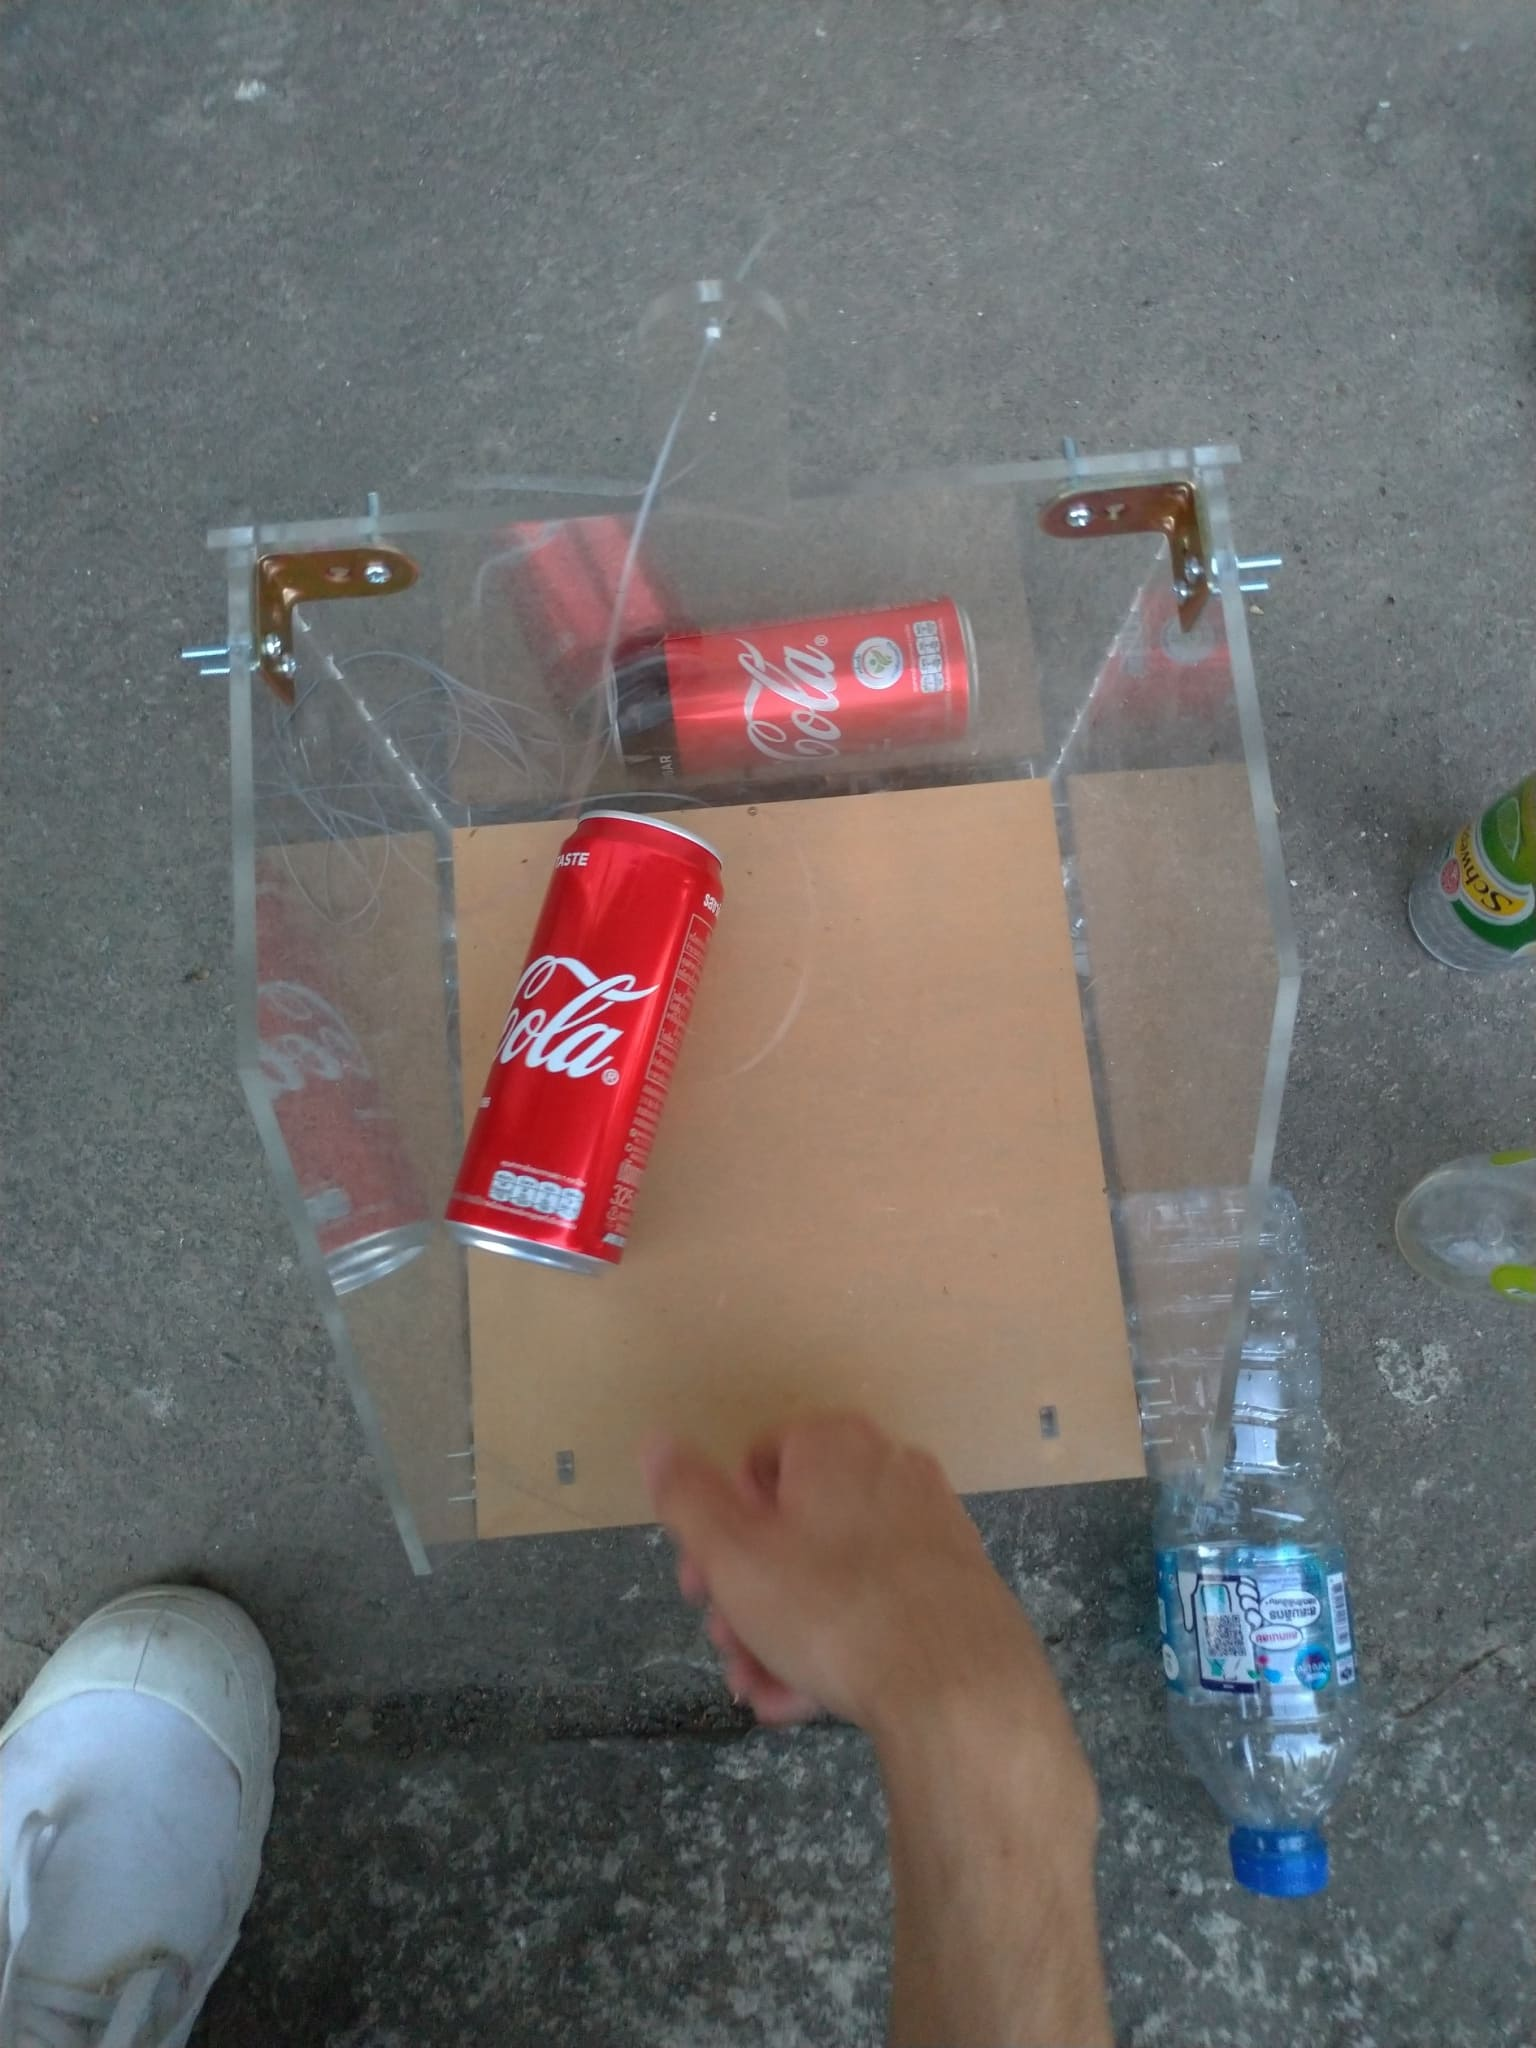AlCan: (444, 811, 720, 1272), (597, 595, 983, 780), (1410, 769, 1536, 971)
PlasticBottle: (1113, 1185, 1367, 1892), (1391, 1155, 1536, 1311)
